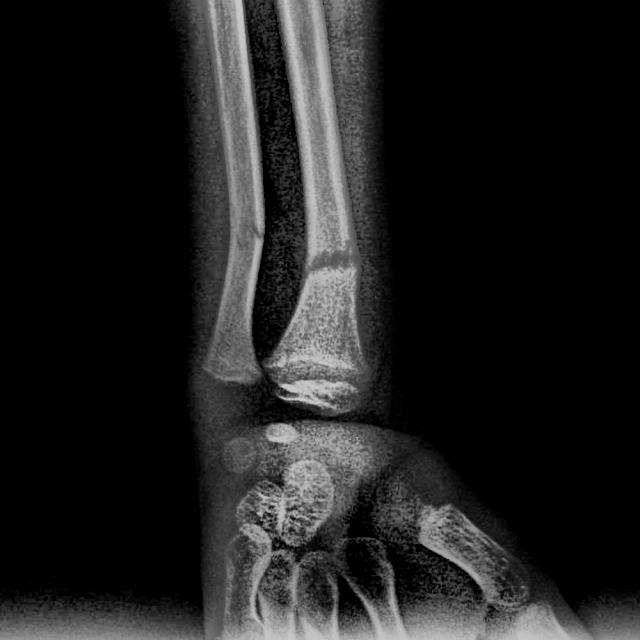angle: (300, 249, 360, 284), (228, 223, 265, 250)
